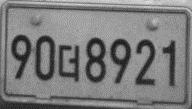0: (33, 34, 56, 82)
1: (161, 38, 176, 87)
2: (134, 39, 156, 85)
8: (84, 36, 106, 83)
9: (9, 33, 32, 80), (109, 37, 132, 83)
더: (58, 43, 80, 83)
